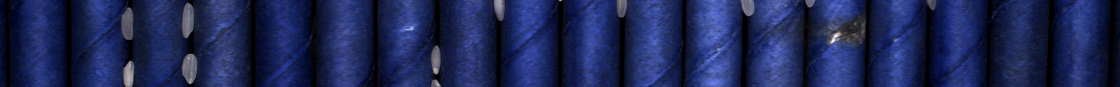broken_grain: (612, 1, 632, 20), (736, 1, 759, 17), (490, 1, 506, 22)
complete_grain: (118, 5, 139, 44), (178, 48, 199, 87), (178, 1, 199, 39), (426, 40, 443, 76)
milky_grain: (118, 55, 137, 87)
